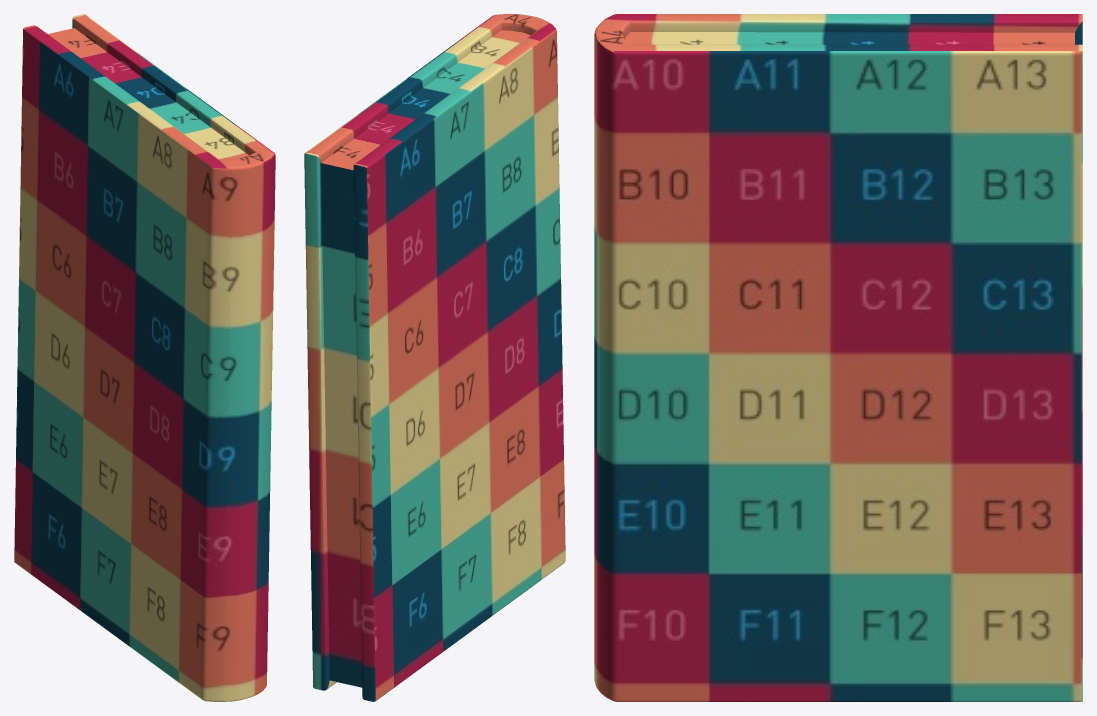
Rendered from book_1.fbx.
The picture shows the model from 3 angles, left to right: view 1: azimuth 30°, elevation 25°; view 2: azimuth 150°, elevation 25°; view 3: azimuth 270°, elevation 25°; orthographic projection. The views are drawn at different scales.
Parts seen in each view (by area): view 1: book_1; view 2: book_1; view 3: book_1.
Part boxes in pixels (bbox=[...]): book_1: bbox=[14, 14, 275, 701]; book_1: bbox=[304, 14, 565, 701]; book_1: bbox=[594, 14, 1082, 701].
Bounding box in the file's own units: 2.98 × 20.82 × 14.02.
